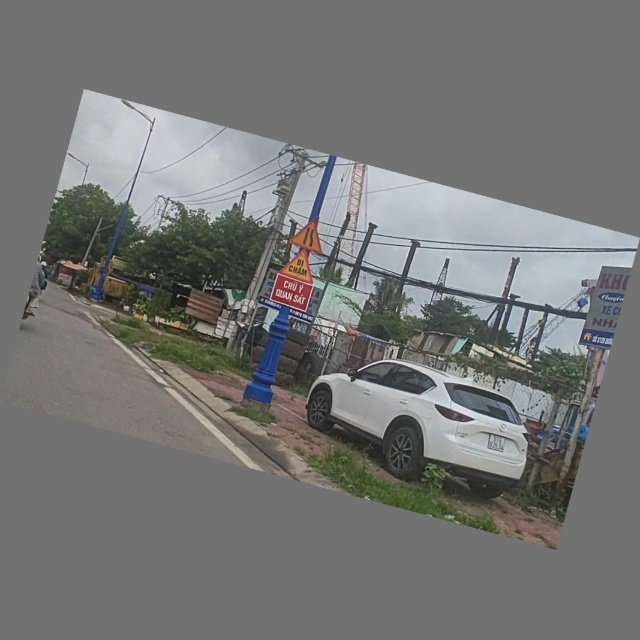W.203c: (287, 216, 331, 255)
W.245a: (279, 246, 323, 286)
